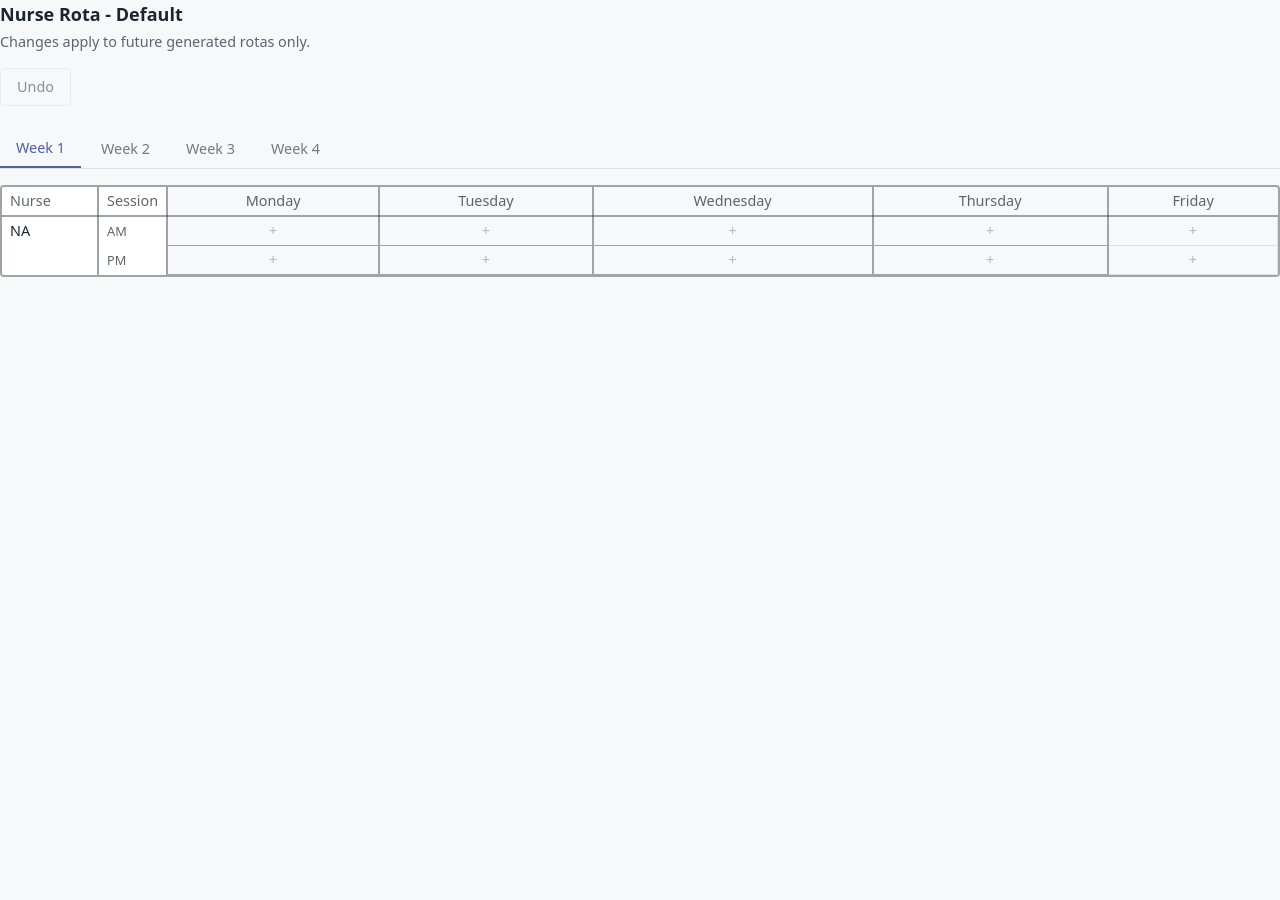
Scenario: NurseRotaPage: undo › undoes a removed session by POSTing it back at its original slot
Click the tab "Week 2" at (126, 149), box [85,130,166,168]
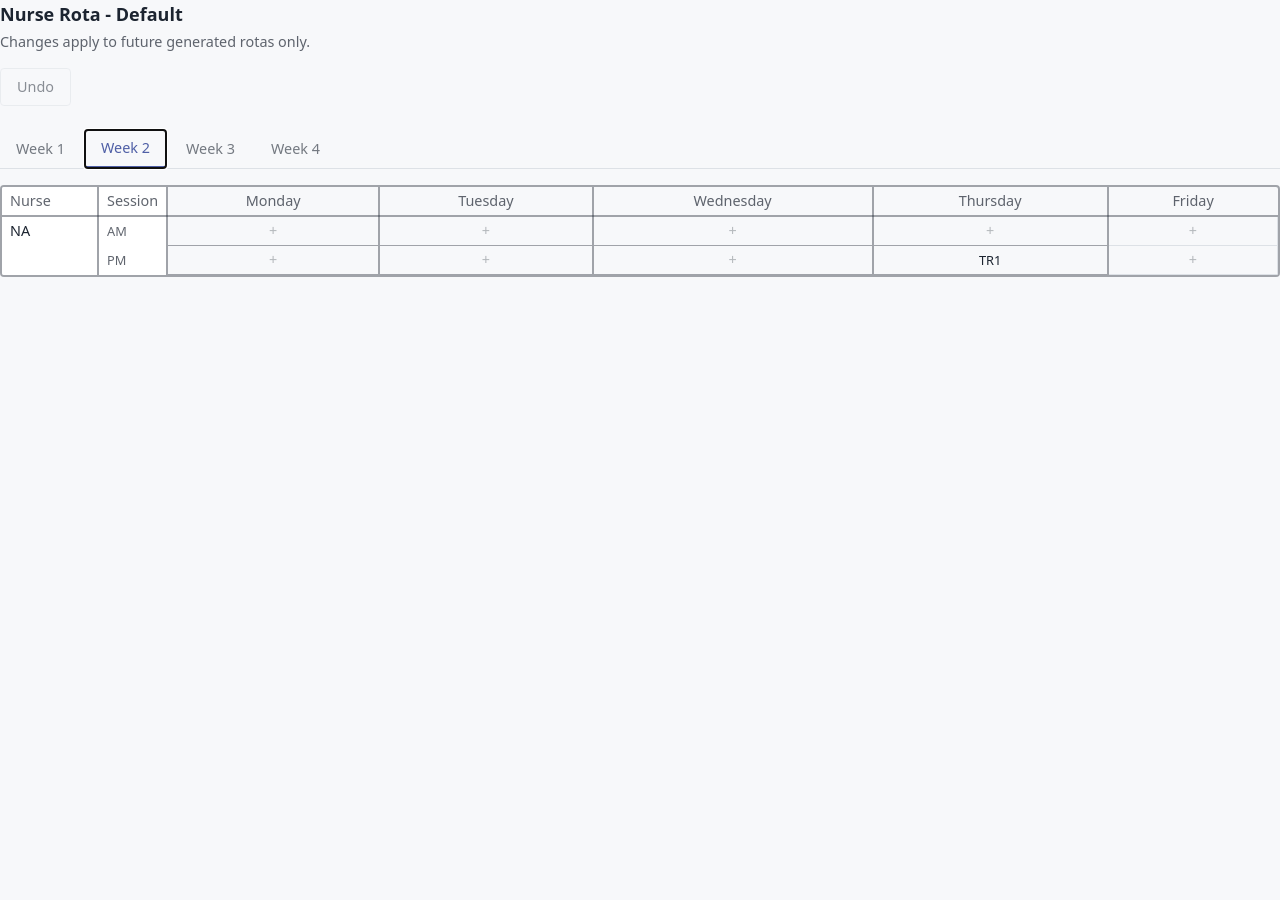
Click the element showing "TR1" at (990, 260), box [979,251,1001,269]
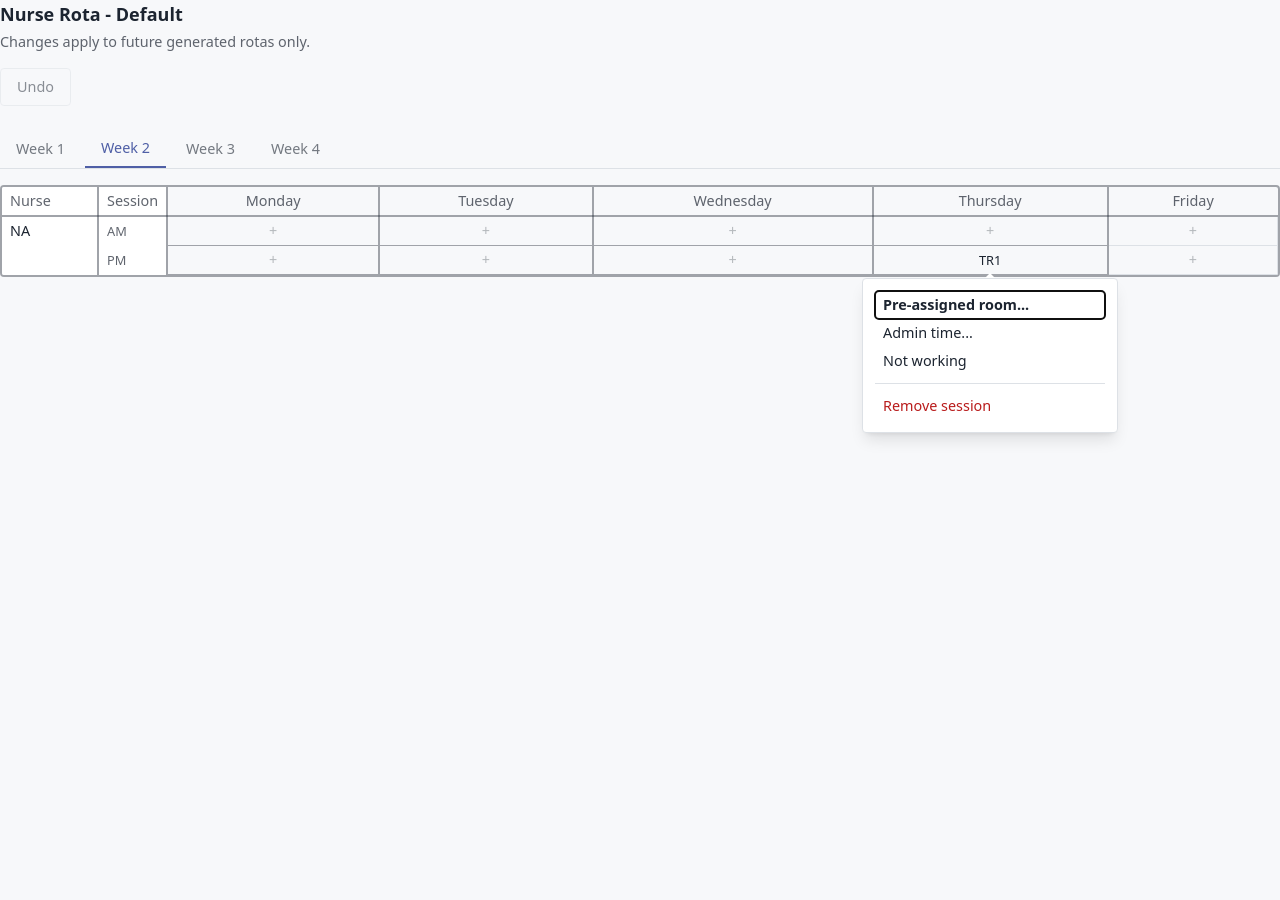
Click the button "Remove session" at (990, 406), box [875,392,1105,420]
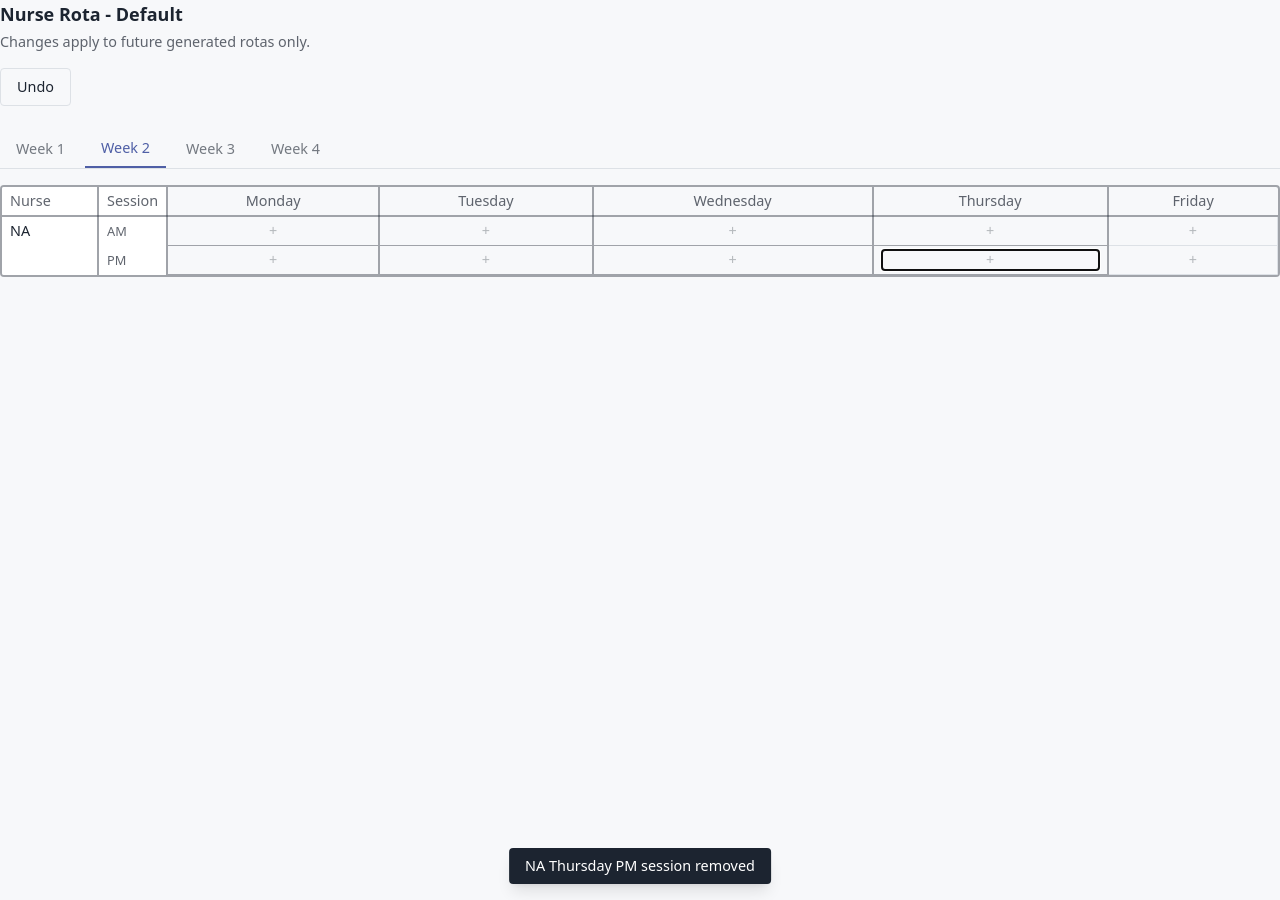
Now the text "NA Thursday PM session removed" is shown, box [509,848,771,884]
Click the button "Undo" at (36, 87), box [0,68,71,106]
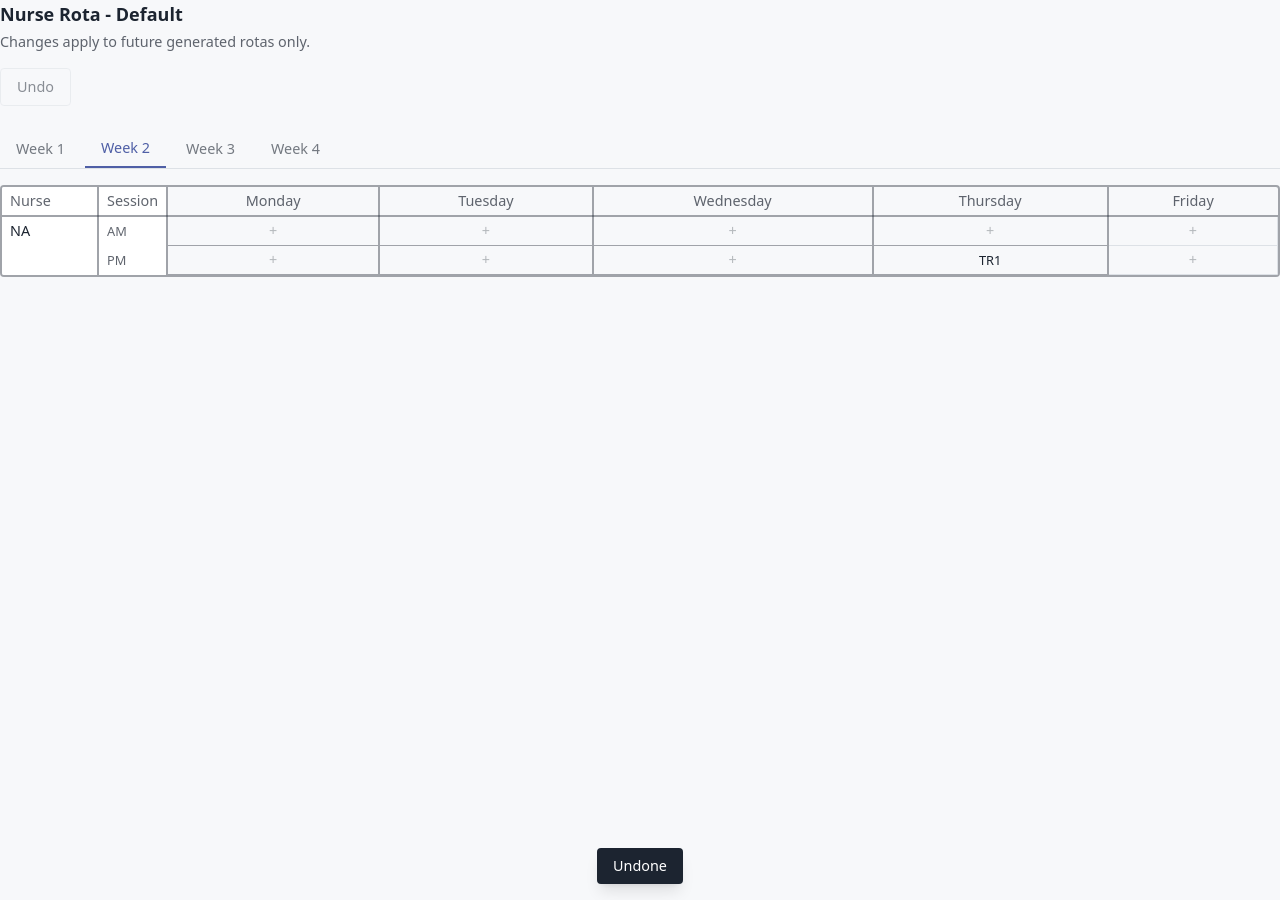
Now the text "Undone" is shown, box [597,848,683,884]
